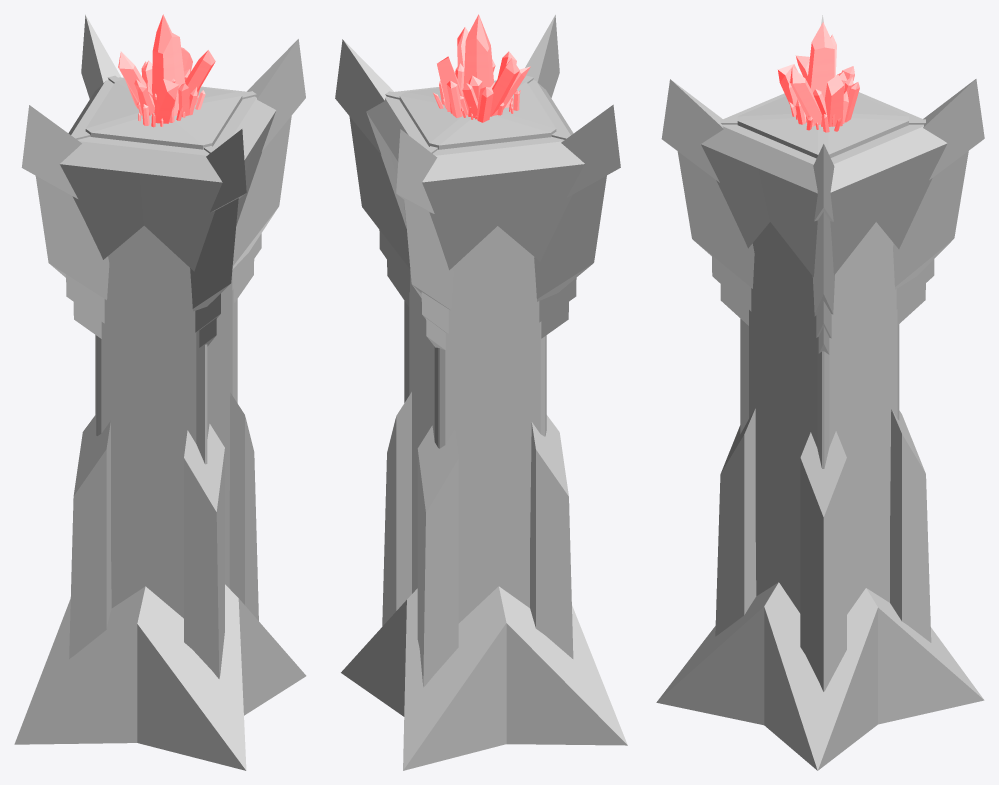
File: Cosa de cristal.fbx
The picture shows the model from 3 angles, left to right: view 1: azimuth 30°, elevation 25°; view 2: azimuth 150°, elevation 25°; view 3: azimuth 270°, elevation 25°; orthographic projection.
Parts seen in each view (by area): view 1: Box394; view 2: Box394; view 3: Box394.
Boxes of the visible parts, x1,y1,x2,y2 form: Box394: (14,14,306,770); Box394: (335,14,627,770); Box394: (656,15,984,770).
Size of the model in its own units: 54.36 by 123 by 53.92.
